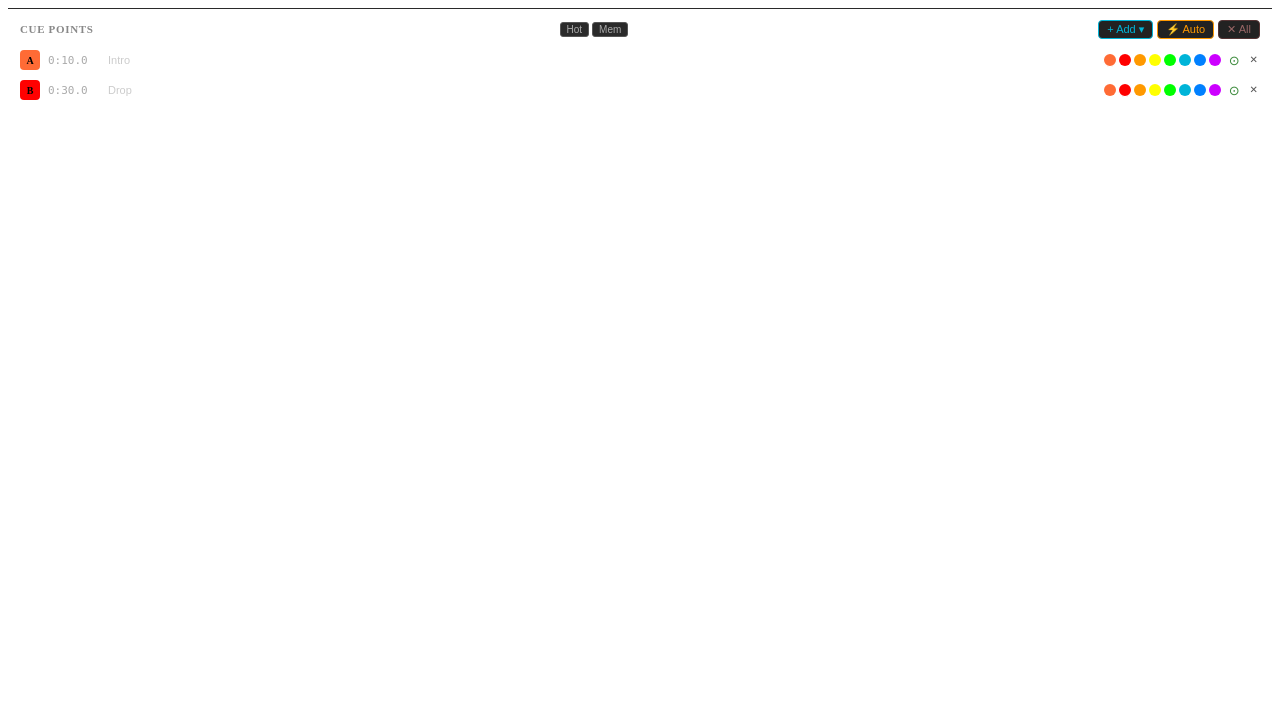
Test: CuePointsEditor — hot cue slot swap › asks before taking an occupied slot and changes nothing yet
Click the text with class "cpe__badge" showing "B": (30, 90) 20,80 -> 40,100
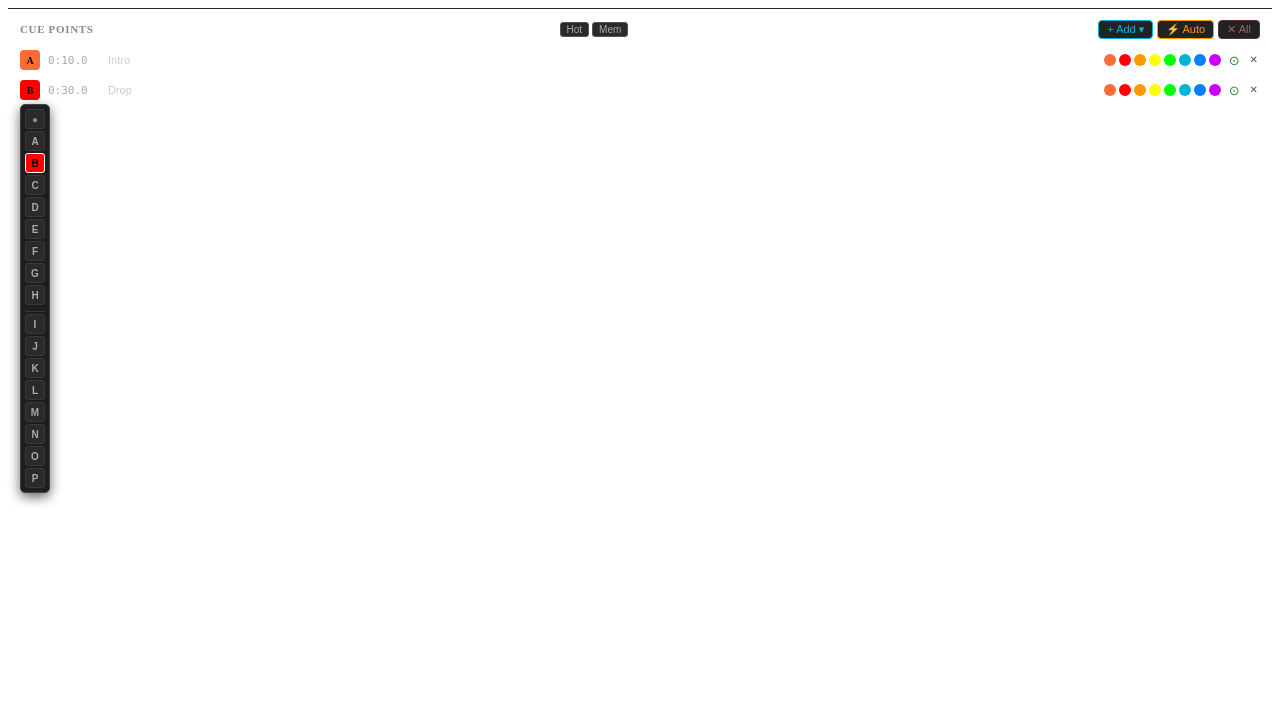
Click the button titled "Hot cue A": (35, 141) 25,131 -> 45,151
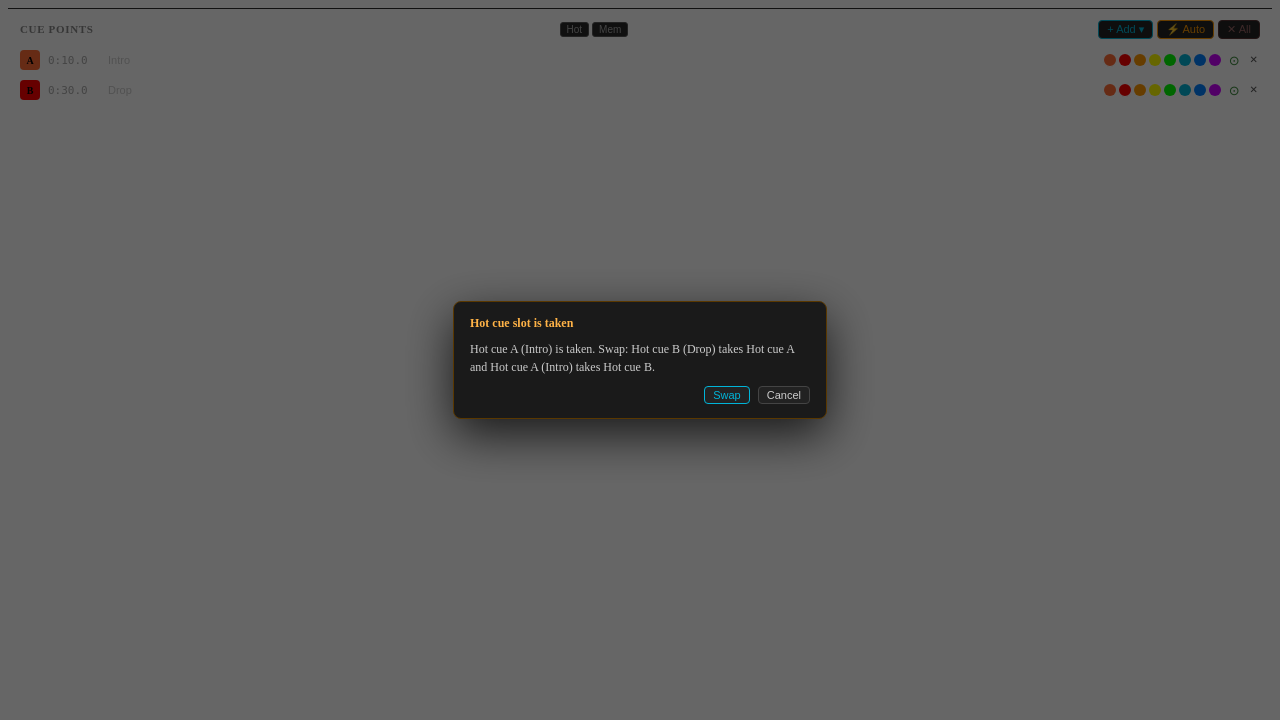
Expected: the dialog with class "cpe__confirm" is shown, 453,301 -> 827,419
Expected: the dialog with class "cpe__confirm" shows "Hot cue A (Intro) is taken", 470,342 -> 794,374
Expected: the dialog with class "cpe__confirm" shows "Hot cue B (Drop) takes Hot cue A", 470,342 -> 794,374
